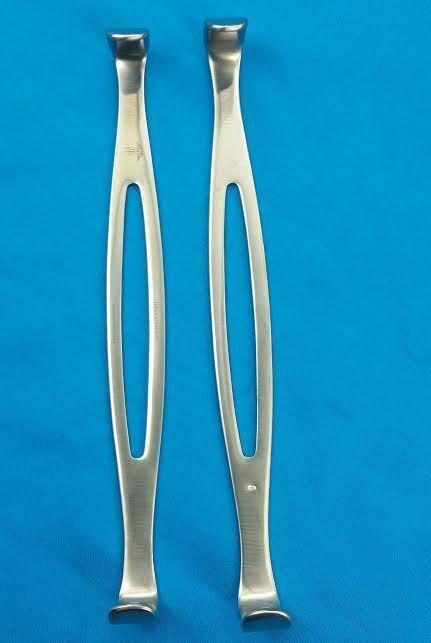Army Navy Retractor: (193, 15, 316, 640), (87, 16, 171, 628)
